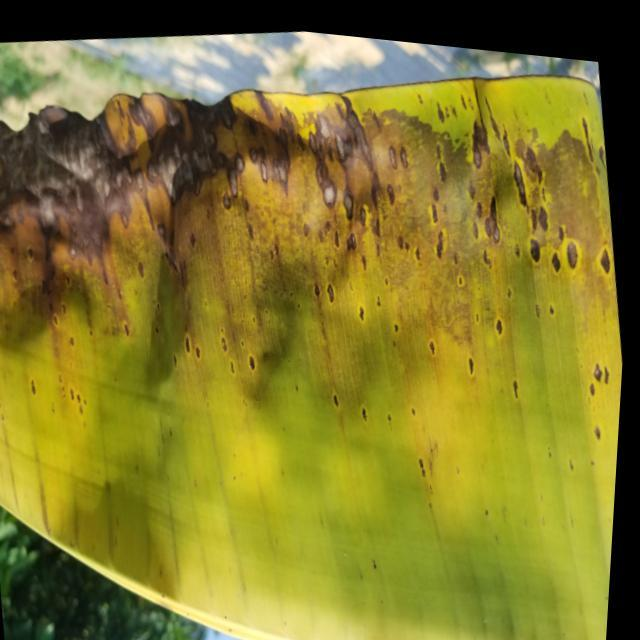Early_rust: (0, 65, 631, 516)
